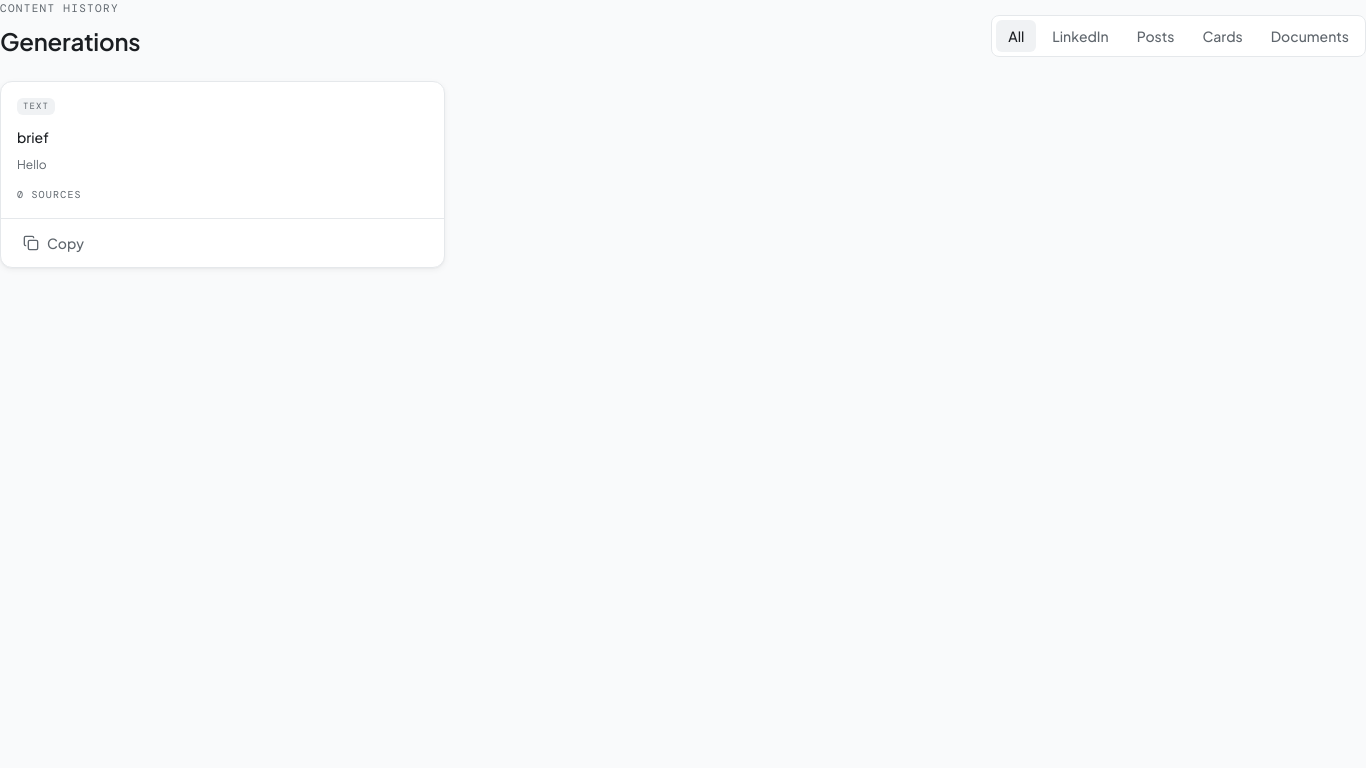
Test: HistoryPage a11y › confirms a generation delete, then focuses the page heading
Step 1. Click the button "text brief Hello 0 sources" → (36, 106), box [1,82,444,218]
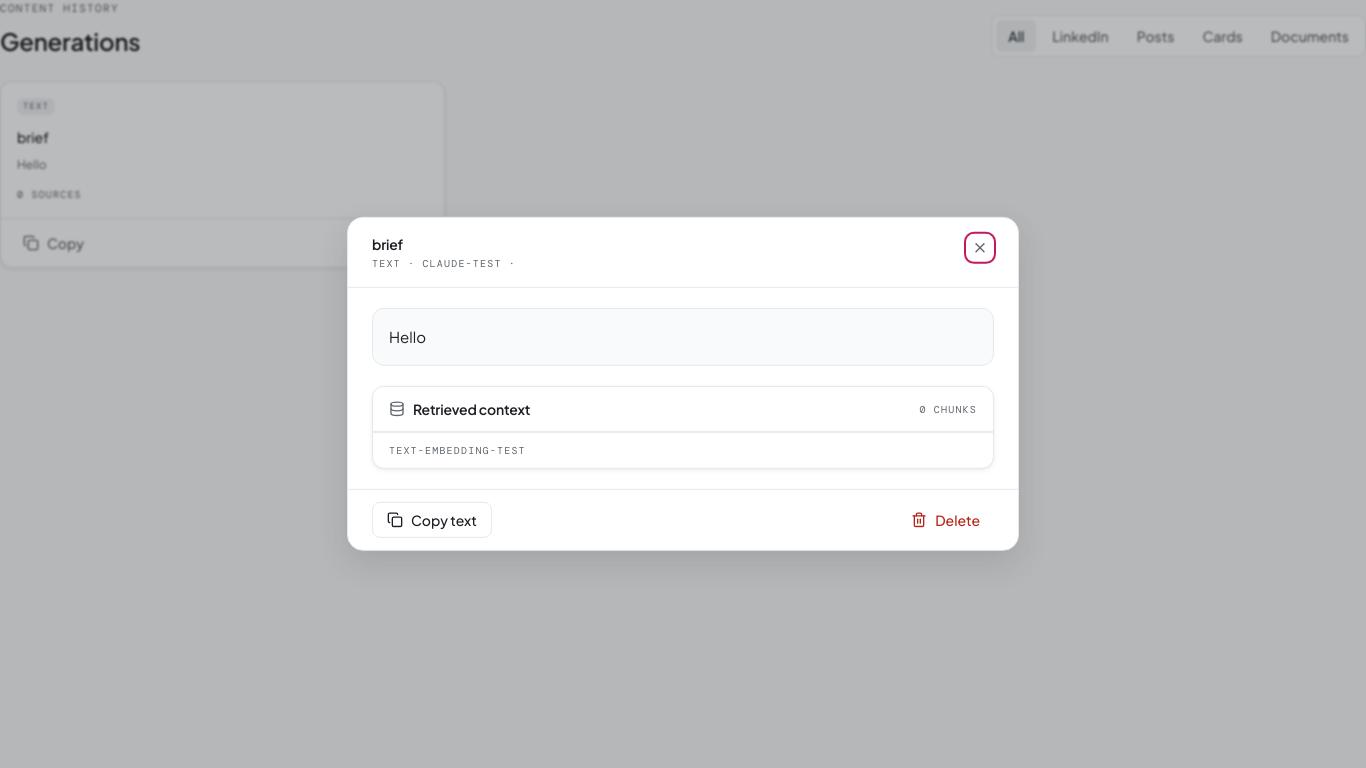
Step 2. Click the button "Delete" → (946, 520), box [897,502,994,538]
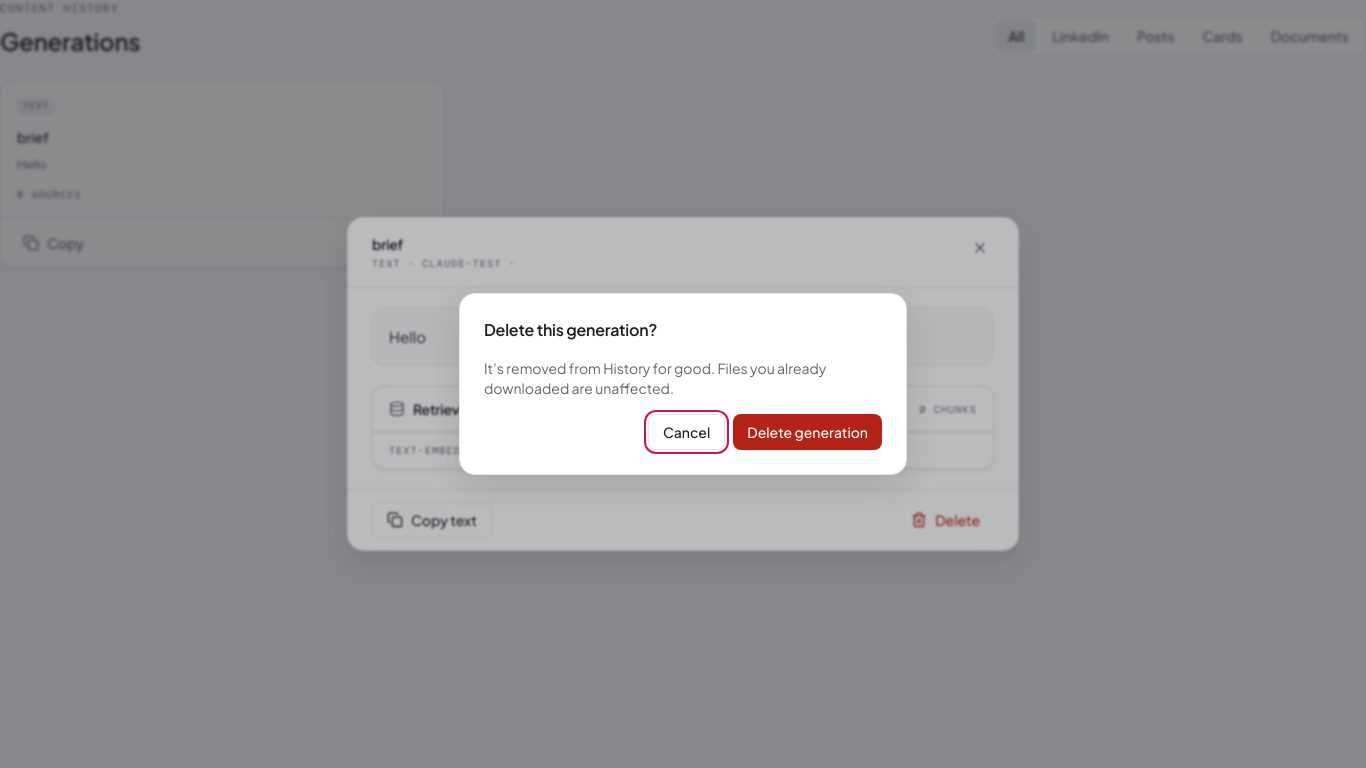
Expected: the dialog "Delete this generation?" is shown, [459,293,907,475]
Step 3. Click the button "Delete generation" → (808, 432), box [733,414,882,450]
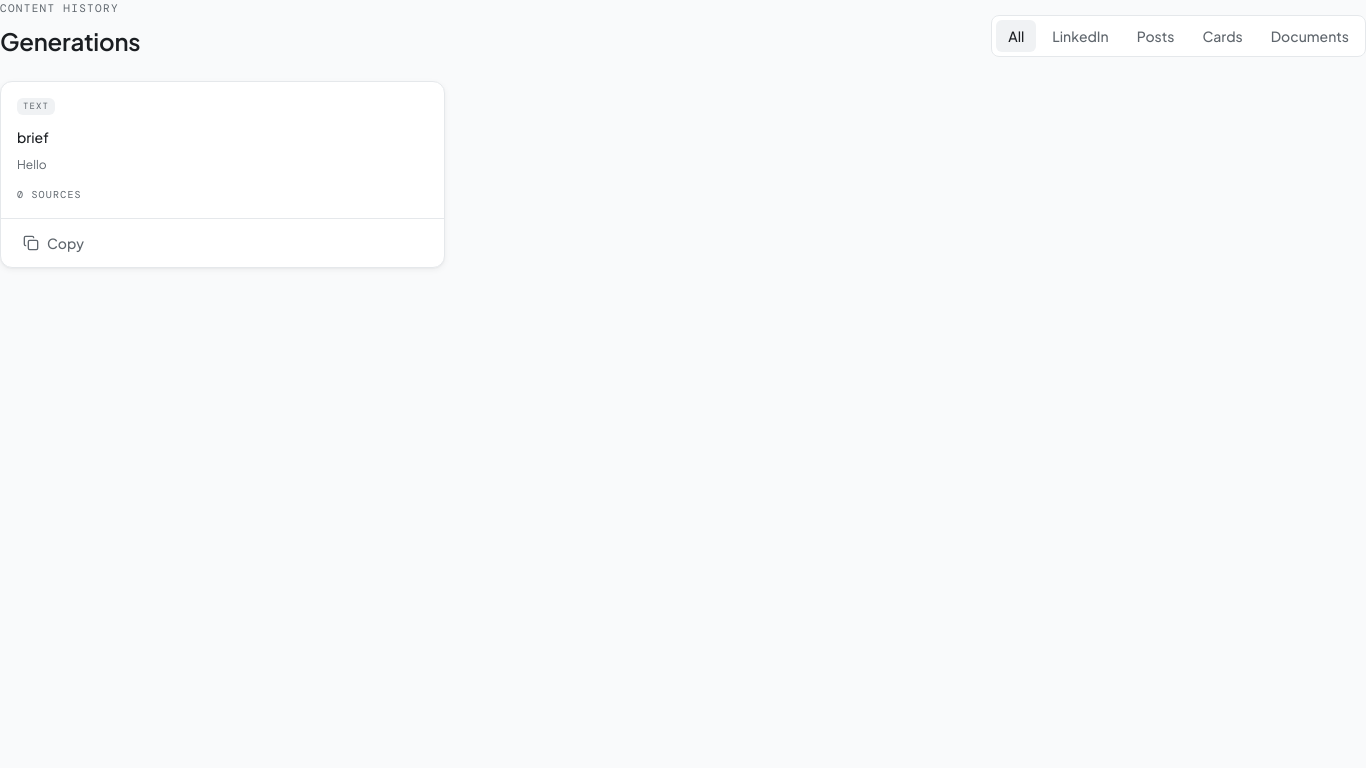
Expected: the dialog is gone
